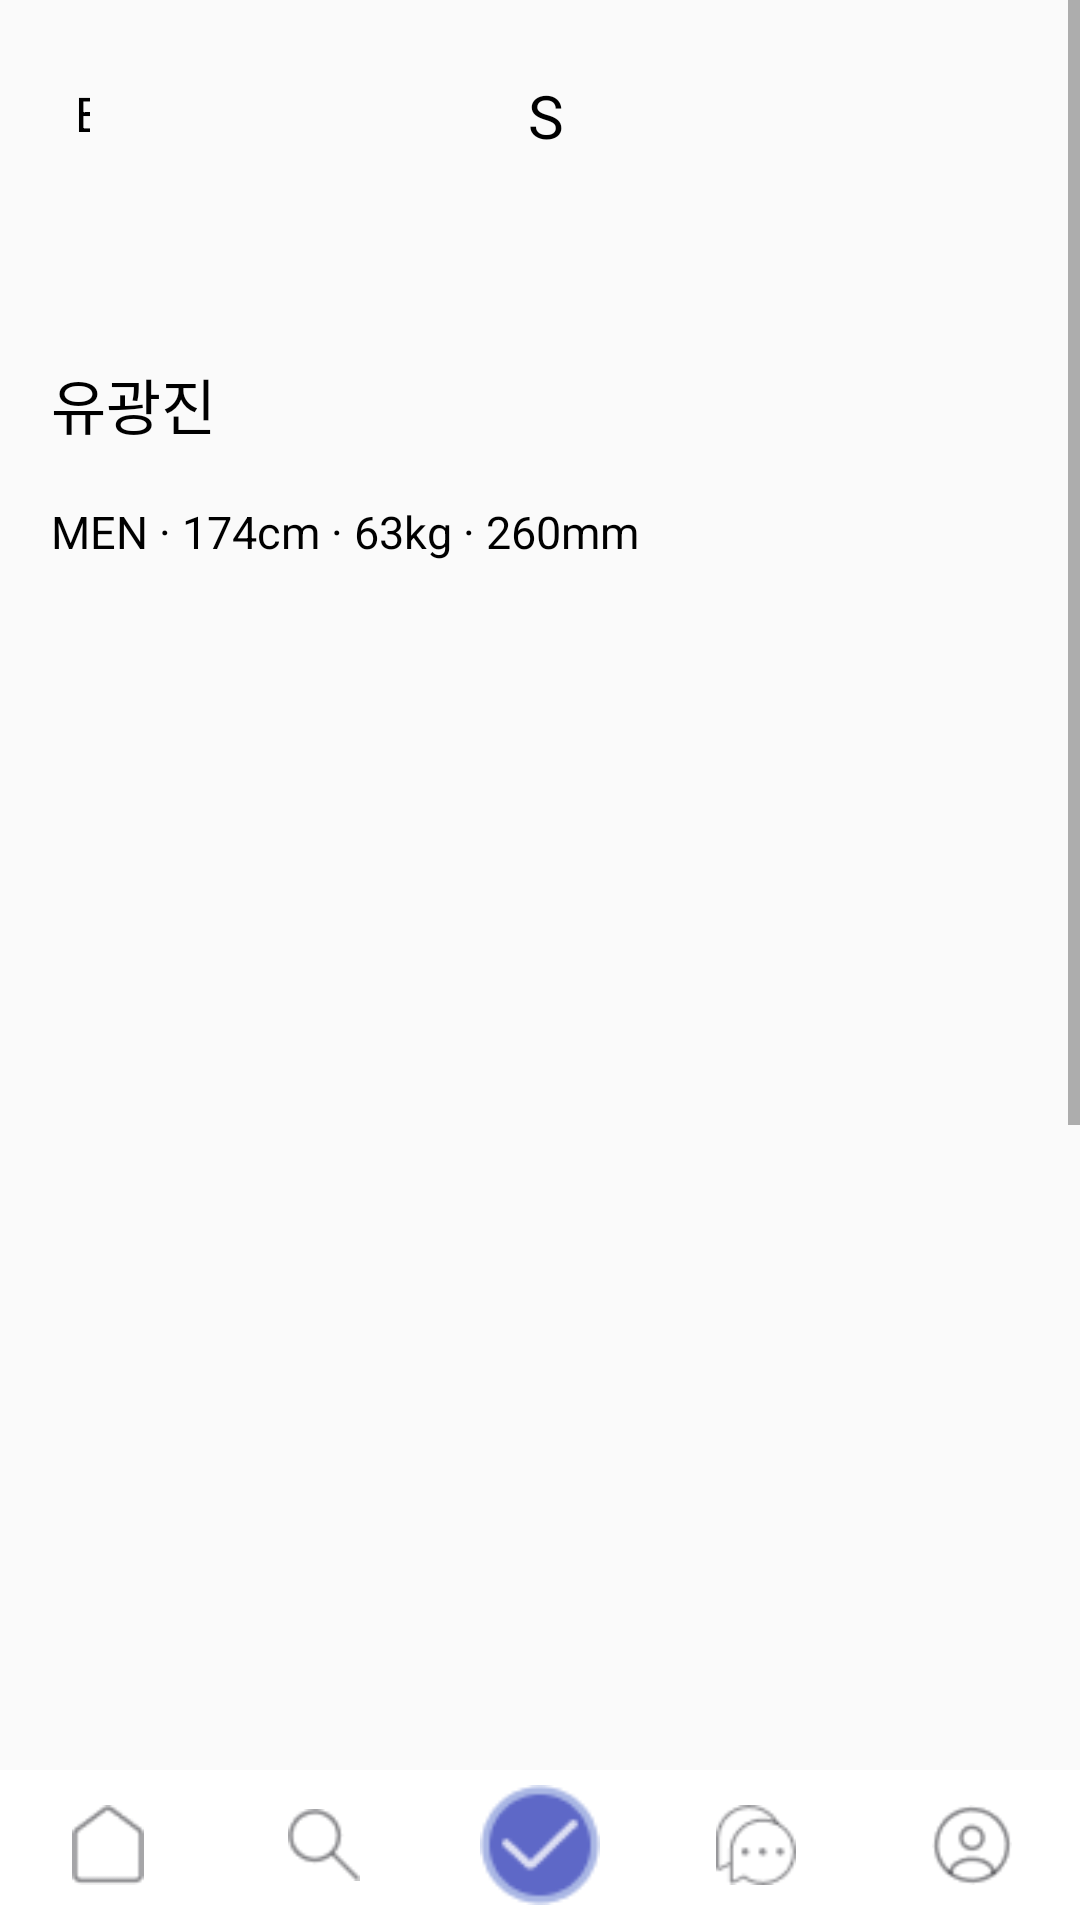

Named icons in this screenshot (1080×1920) and their bounding boxes, (x1, y1, x2, y2):
homepage check: (480, 1785, 600, 1905)
homepage home: (72, 1805, 144, 1883)
homepage message: (716, 1805, 796, 1885)
homepage profile: (934, 1807, 1010, 1883)
homepage search: (288, 1809, 360, 1881)
